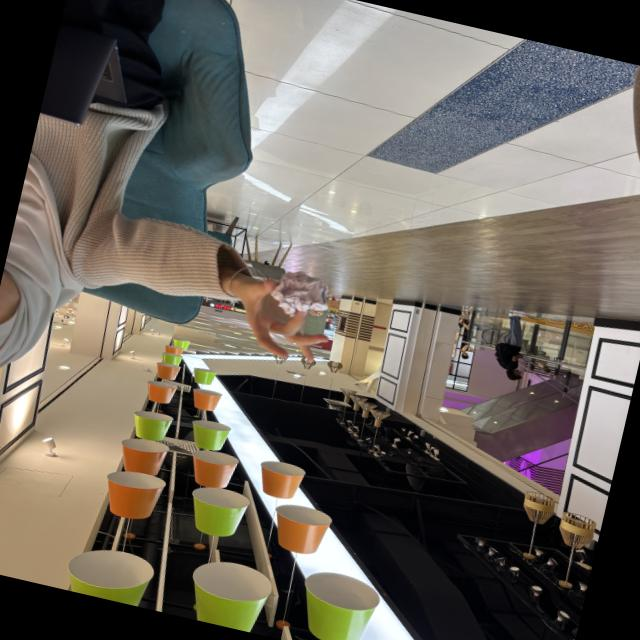crumpled_paper: (264, 262, 337, 324)
